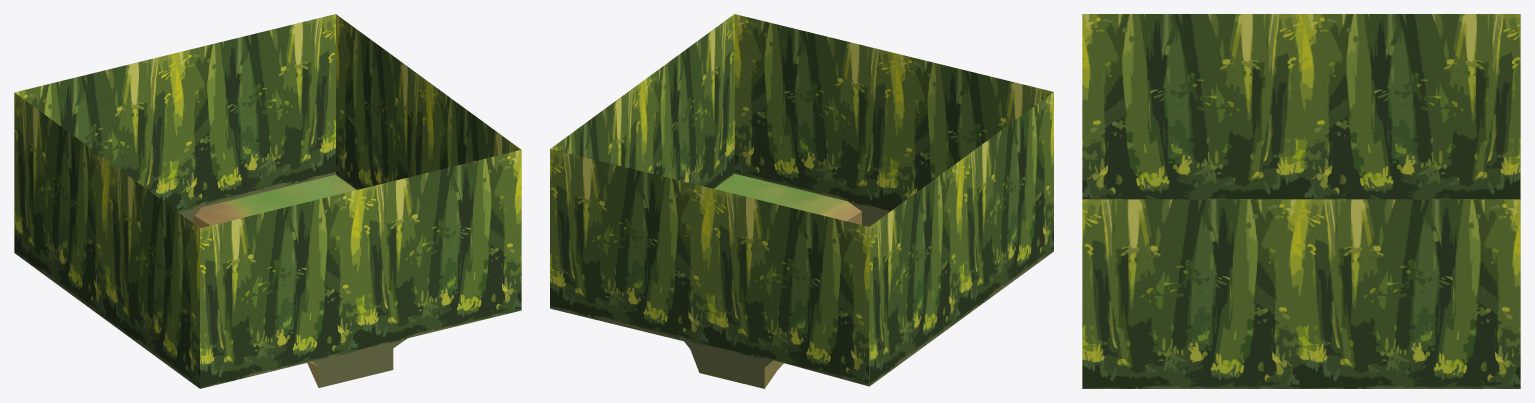
Rendered from Room1.fbx.
3 renders of one model, left to right at view 1: azimuth 30°, elevation 25°; view 2: azimuth 150°, elevation 25°; view 3: azimuth 270°, elevation 25°, orthographic. The views are drawn at different scales.
Parts seen in each view (by area): view 1: Box.001; view 2: Box.001; view 3: Box.001.
Part boxes in pixels (x1,y1,x2,y2): Box.001: (14, 14, 521, 388); Box.001: (550, 14, 1053, 388); Box.001: (1082, 14, 1520, 388).
Bounding box in the file's own units: 887 × 498 × 887.
Materials: 1 (1 with a texture image).
